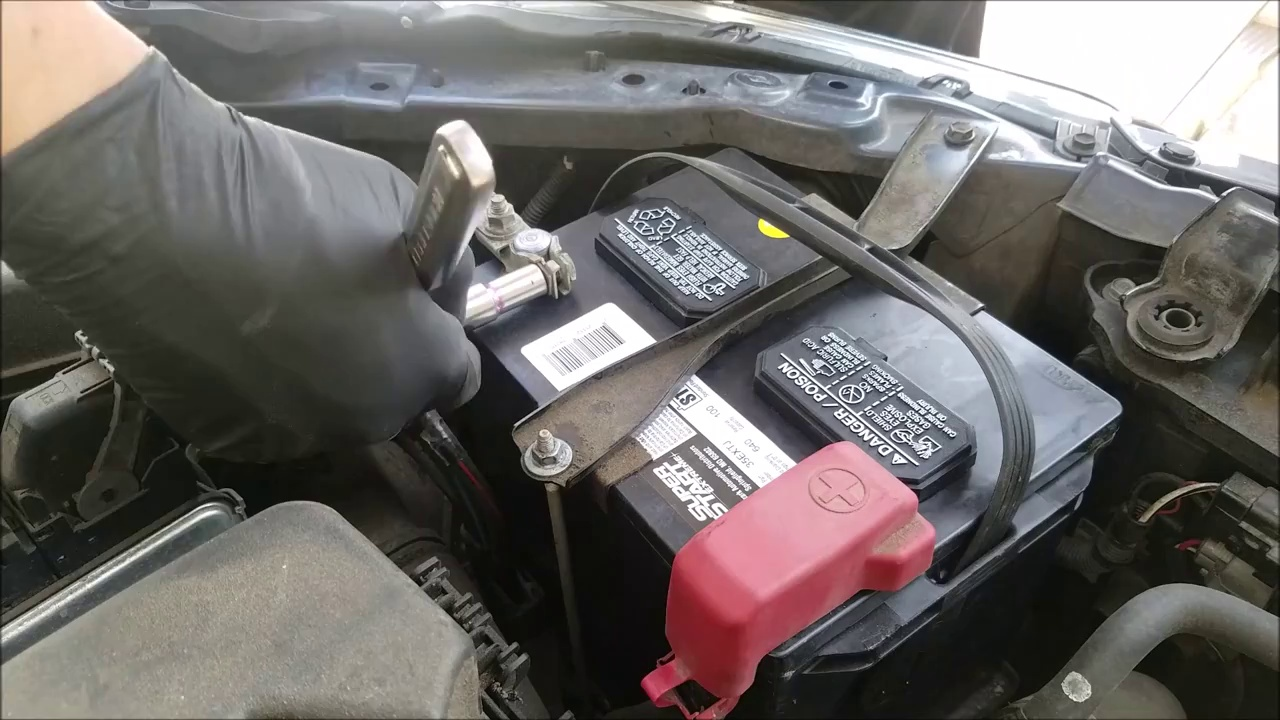battery: (411, 140, 1122, 690)
neg_touched: (318, 158, 603, 410)
pos_connected: (654, 460, 906, 670)
